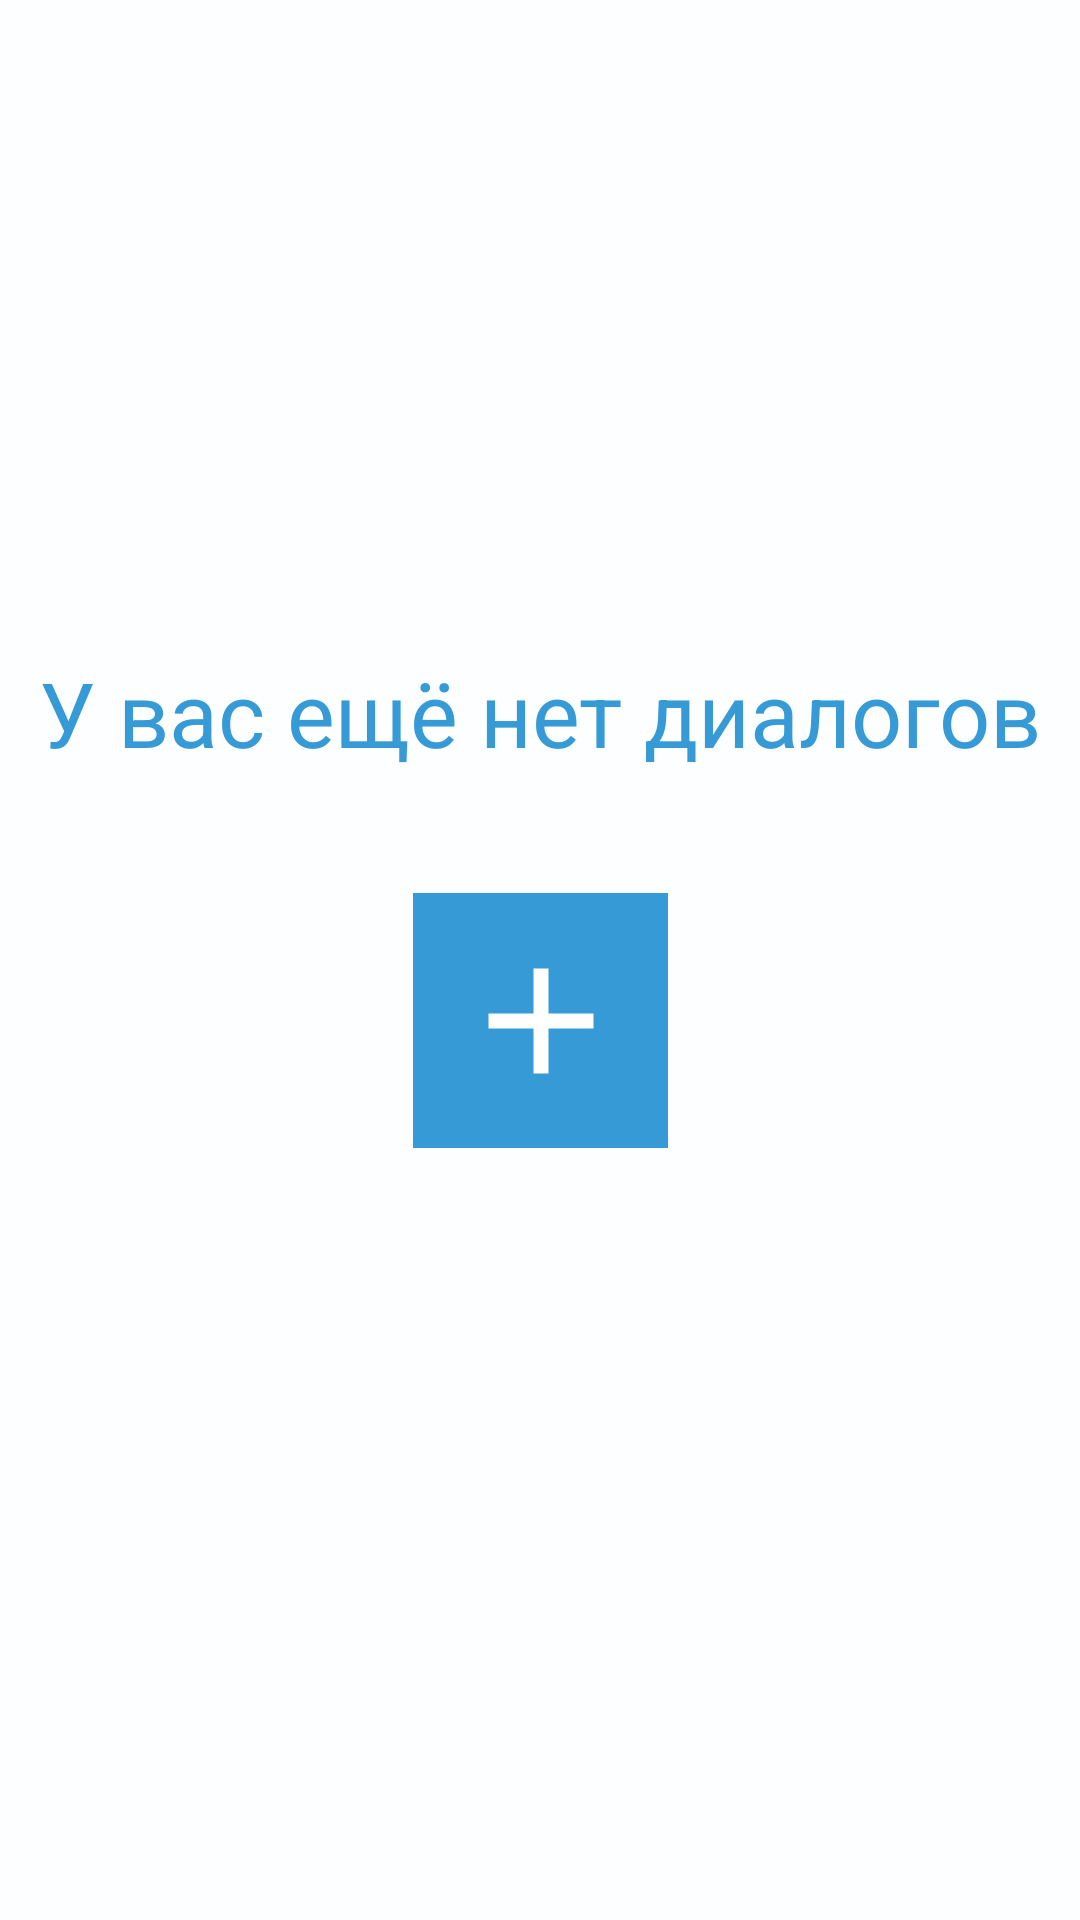

Icons on this 1080 × 1920 Android screen, each with its box as (x1, y1, x2, y2):
add: (413, 893, 668, 1148)
